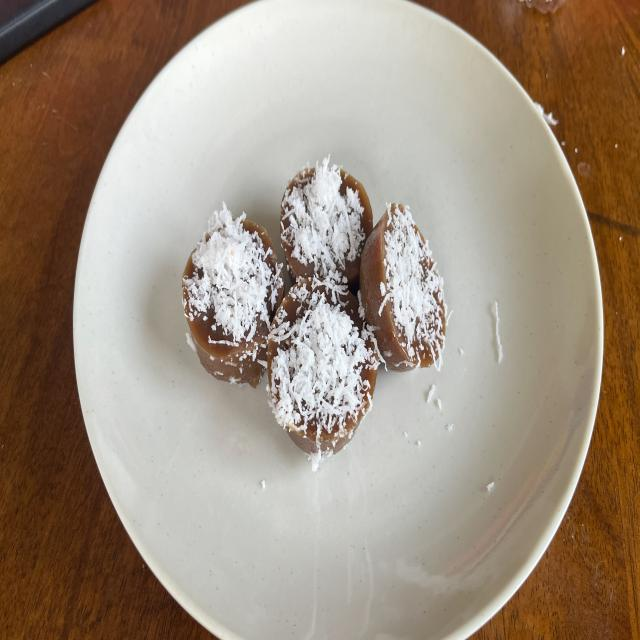Kuih lompang: (280, 156, 374, 422), (268, 278, 379, 458), (182, 202, 284, 387), (360, 204, 448, 371), (280, 158, 372, 293)
